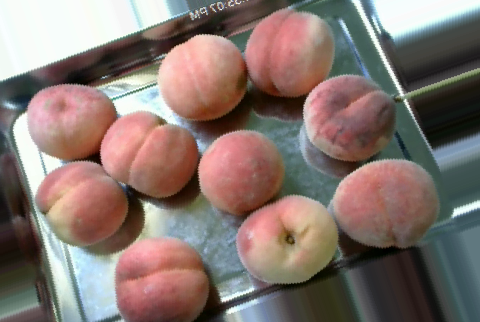Peach: (332, 160, 437, 249), (235, 195, 339, 284), (34, 160, 132, 249), (100, 108, 193, 200), (111, 236, 209, 322), (303, 73, 393, 161), (160, 33, 246, 122), (196, 129, 286, 213), (247, 8, 333, 95), (22, 85, 118, 159)
